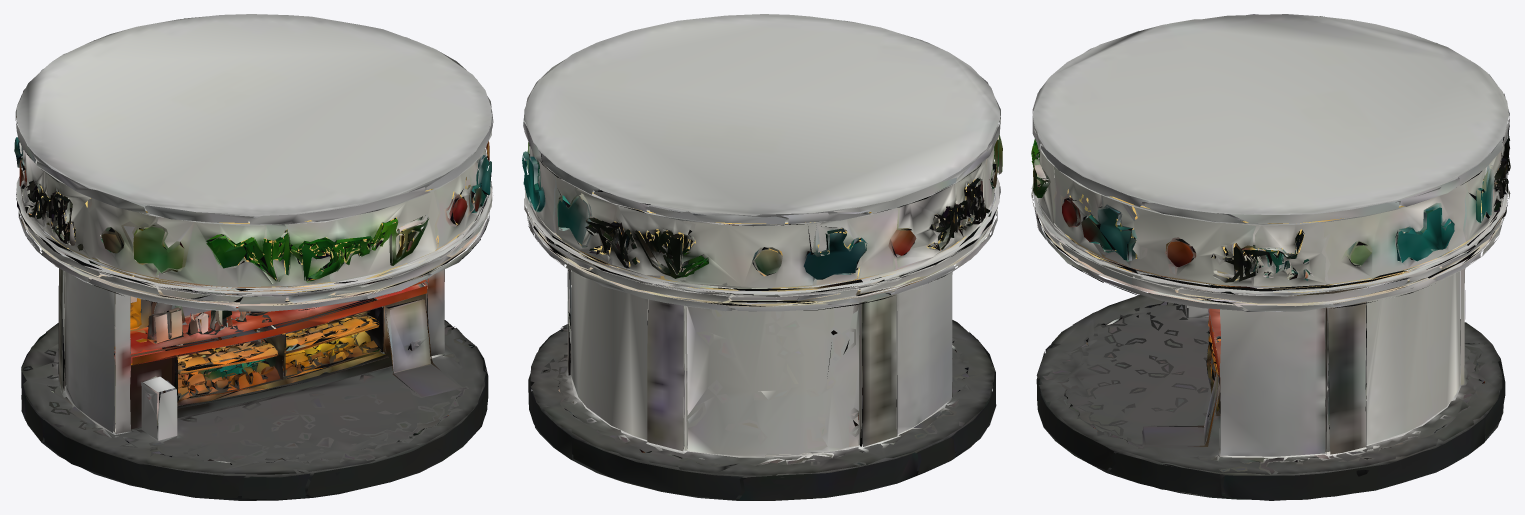
File: rm-mortymart-tr.lo.glb
3 views of the same model, side by side, from view 1: azimuth 30°, elevation 25°; view 2: azimuth 150°, elevation 25°; view 3: azimuth 270°, elevation 25° (orthographic).
Parts seen in each view (by area): view 1: low; view 2: low; view 3: low.
Part boxes in pixels (left/top/right/bottom): low: left=14, top=14, right=493, bottom=500; low: left=522, top=14, right=1002, bottom=500; low: left=1031, top=14, right=1510, bottom=500.
Size of the model in its own units: 1 by 0.6685 by 1.01.
Materials: 1 (1 with a texture image).
